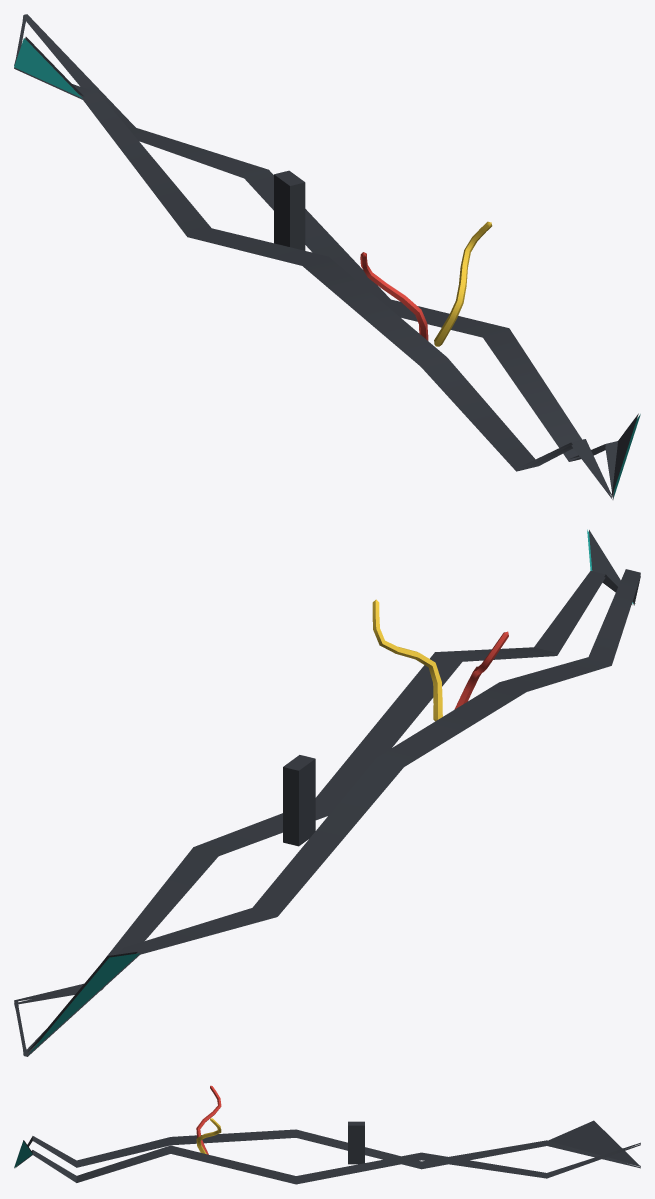
Rendered from RotBordeDeriva.fbx.
3 renders of one model, top to bottom at view 1: azimuth 30°, elevation 25°; view 2: azimuth 150°, elevation 25°; view 3: azimuth 270°, elevation 25°, orthographic. The views are drawn at different scales.
Visible parts, largest first — view 1: RotBordeDeriva; view 2: RotBordeDeriva; view 3: RotBordeDeriva.
Boxes of the visible parts, x1=… form: RotBordeDeriva: x1=14, y1=14, x2=640, y2=499; RotBordeDeriva: x1=14, y1=529, x2=640, y2=1056; RotBordeDeriva: x1=14, y1=1085, x2=640, y2=1184.
Size of the model in its own units: 1.87 by 1.85 by 14.7.
1 material, 1 textured.
